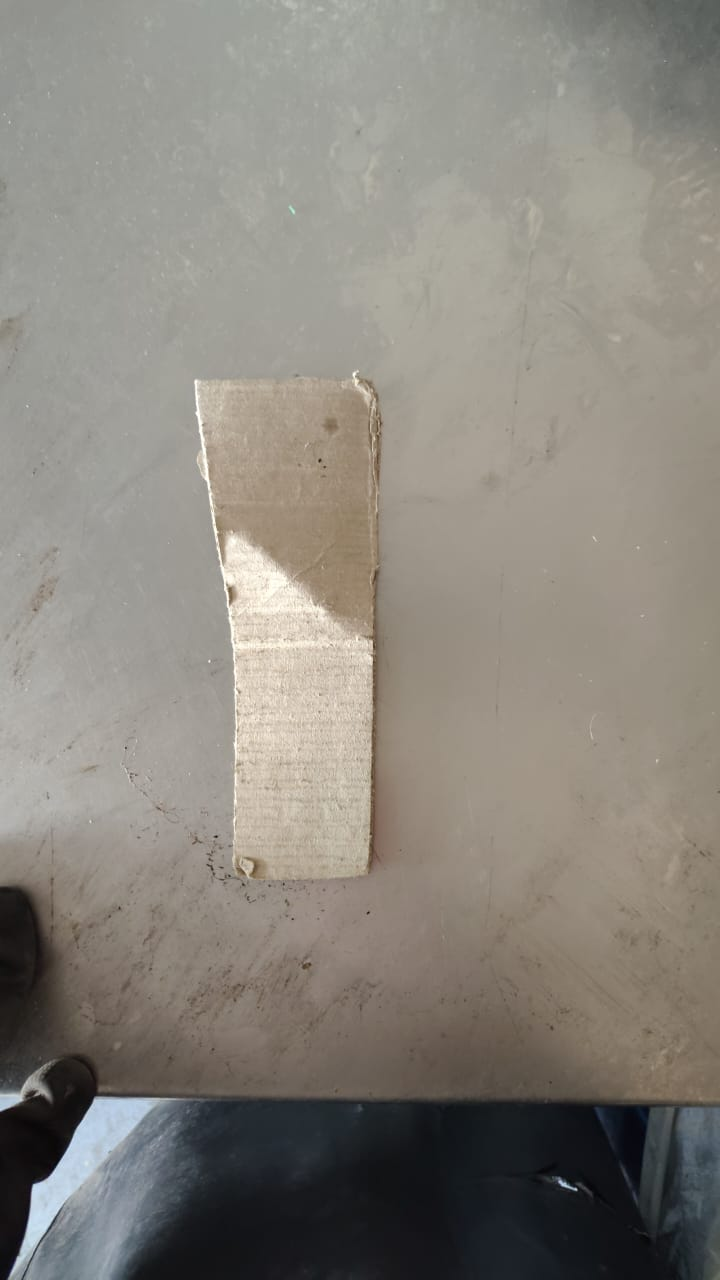Carton: (187, 377, 378, 882)
